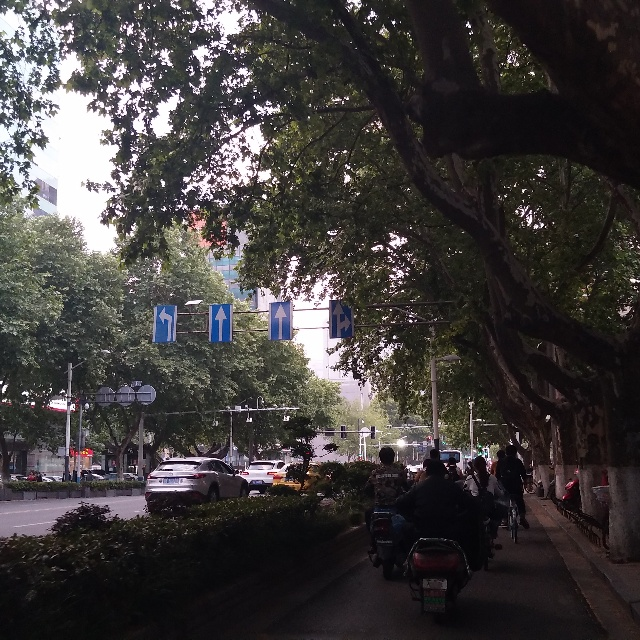left: (155, 307, 179, 343)
straight: (267, 301, 292, 344), (212, 305, 234, 340)
